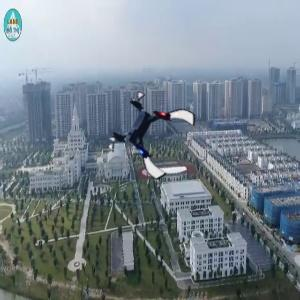drone: (114, 94, 193, 173)
